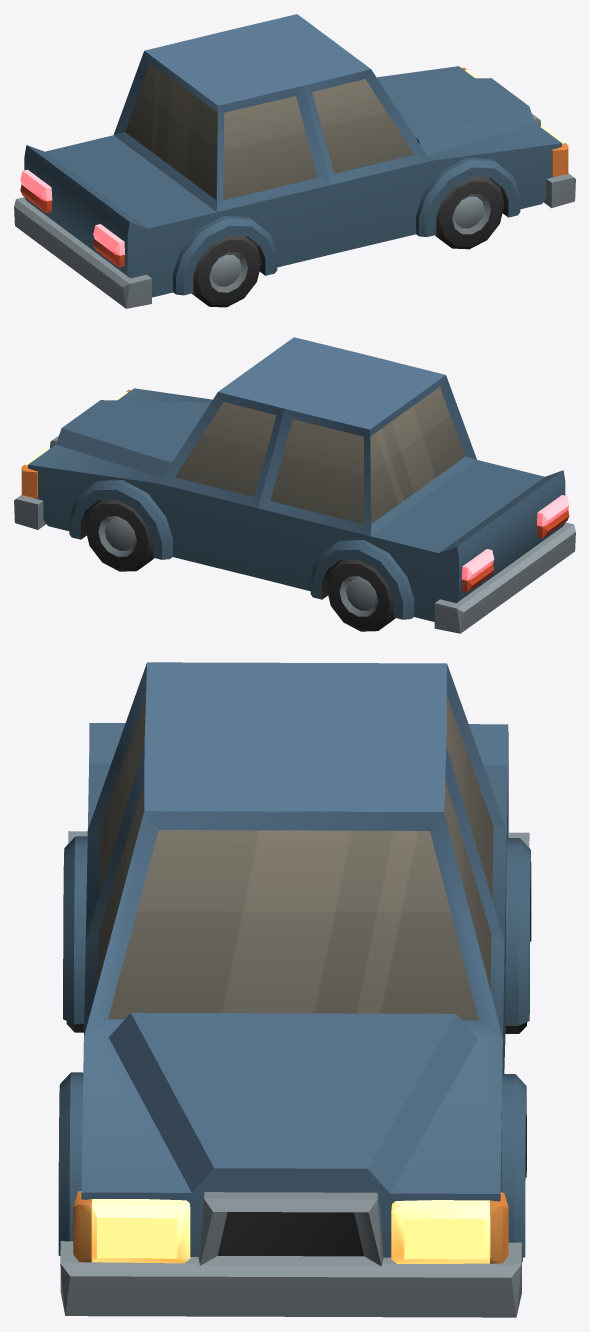
File: car_01.glb
3 views of the same model, one above another, from view 1: azimuth 30°, elevation 25°; view 2: azimuth 150°, elevation 25°; view 3: azimuth 270°, elevation 25° (orthographic). The views are drawn at different scales.
Visible parts, largest first — view 1: car_01, car_sedan_wheel_rear_right, car_sedan_wheel_front_right; view 2: car_01, car_sedan_wheel_front_left, car_sedan_wheel_rear_left; view 3: car_01.
Part boxes in pixels (x1,y1,x2,y2): car_01: (14, 14, 575, 308); car_sedan_wheel_rear_right: (192, 235, 261, 307); car_sedan_wheel_front_right: (435, 177, 504, 249); car_01: (14, 337, 575, 633); car_sedan_wheel_front_left: (85, 499, 154, 571); car_sedan_wheel_rear_left: (326, 559, 395, 631); car_01: (58, 662, 531, 1317).
Size of the model in its own units: 0.941 by 0.3688 by 0.4245.
Materials: 3 (1 with a texture image).
